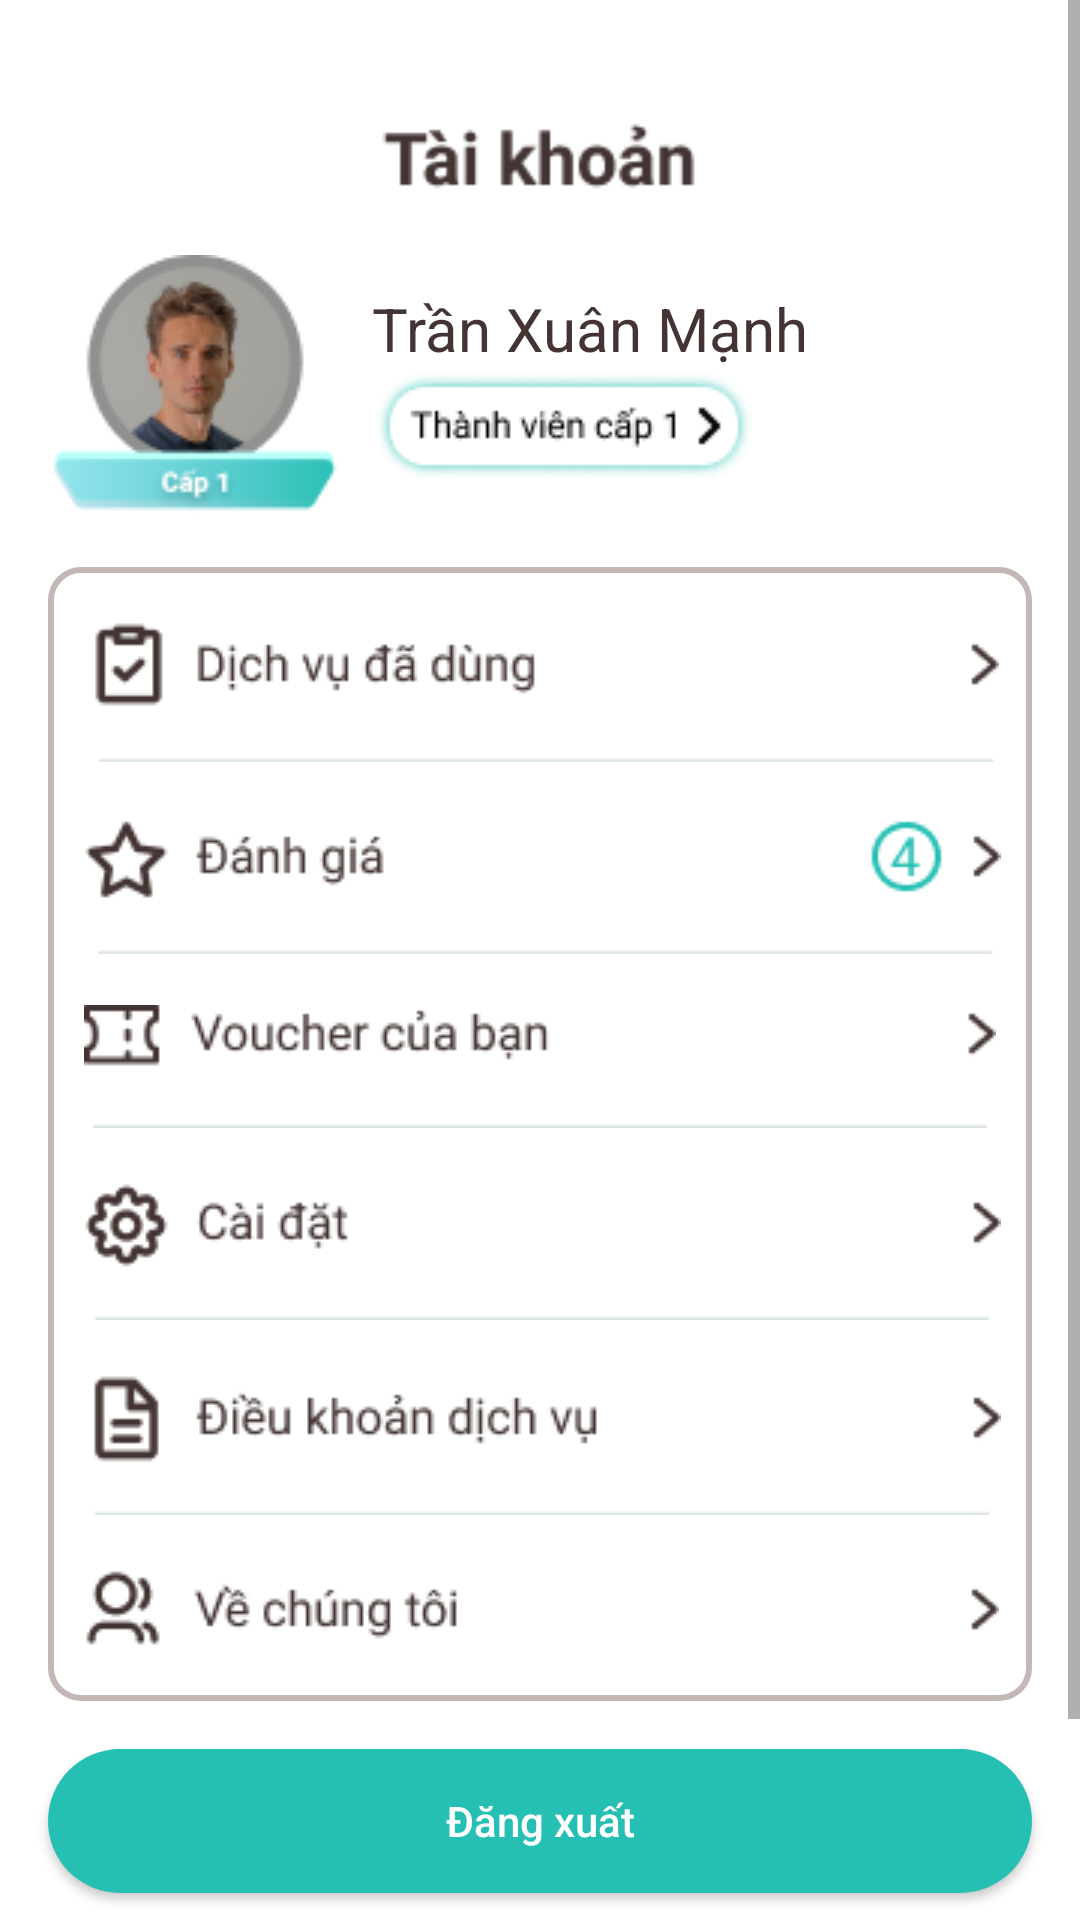

Icon click points for this 1080 × 1920 phone screenshot, format point (x, y):
anhdaidien: point (195, 383)
